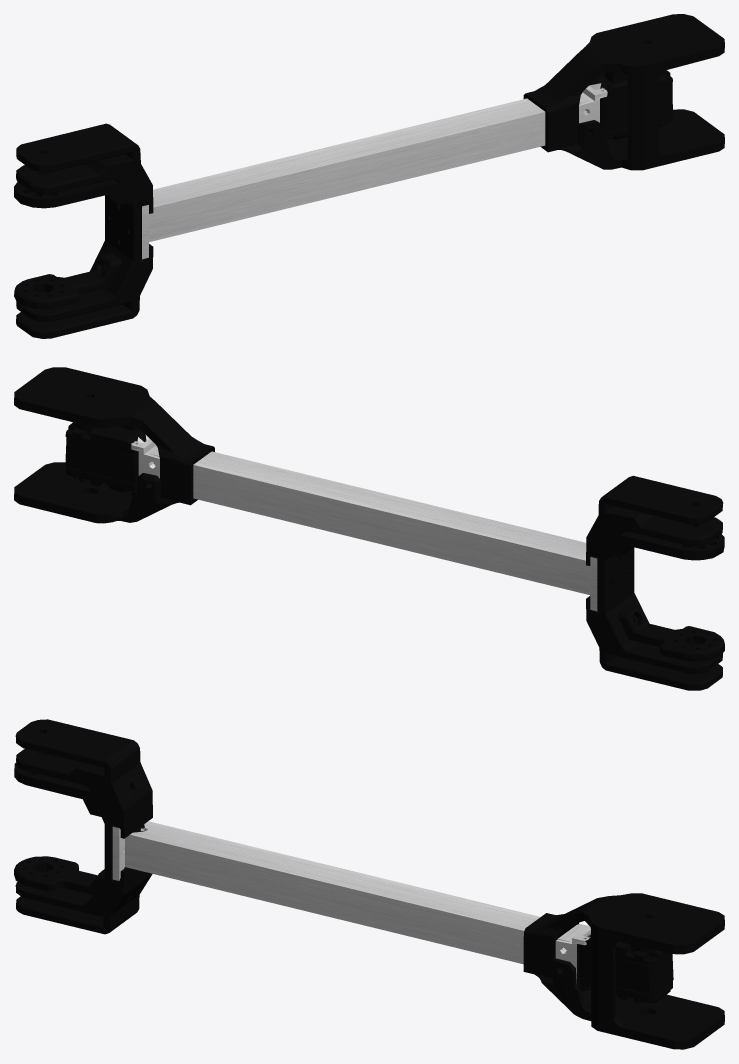
The model's file is servo3_link.dae.
3 views of the same model, one above another, from view 1: azimuth 30°, elevation 25°; view 2: azimuth 150°, elevation 25°; view 3: azimuth 330°, elevation 25° (orthographic).
Parts seen in each view (by area): view 1: servo3_link; view 2: servo3_link; view 3: servo3_link.
Part boxes in pixels (x1,y1,x2,y2): servo3_link: (14,14,724,338); servo3_link: (14,367,724,690); servo3_link: (14,719,724,1049).
Bounding box in the file's own units: 0.4099 × 0.0469 × 0.099.
1 material, 1 textured.
